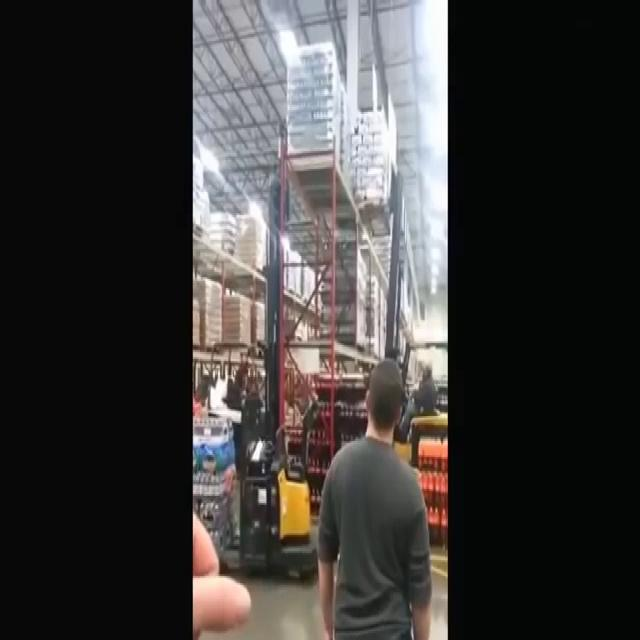Chariot elevateur: (236, 365, 318, 583)
